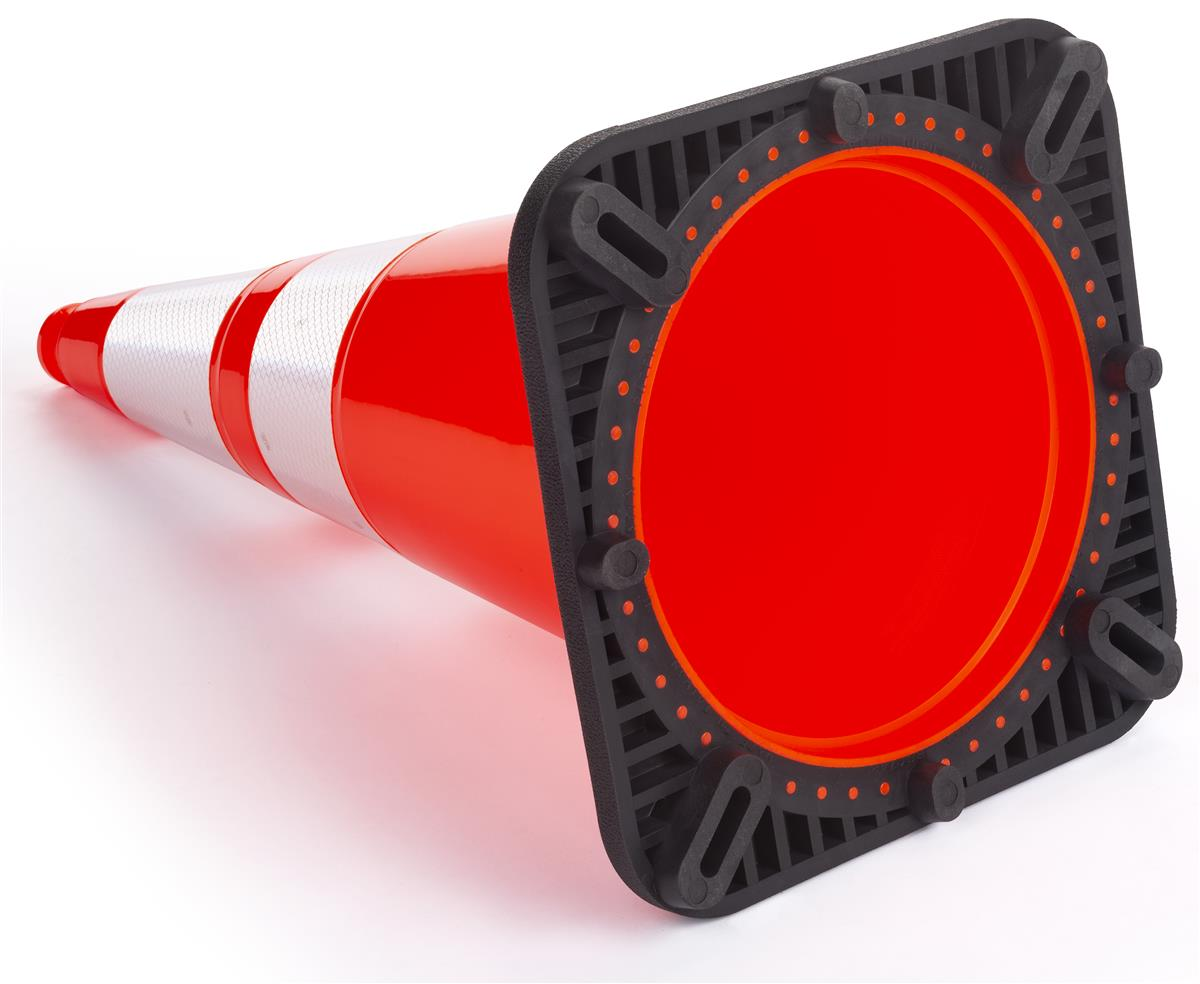cones: (2, 7, 1195, 923)
